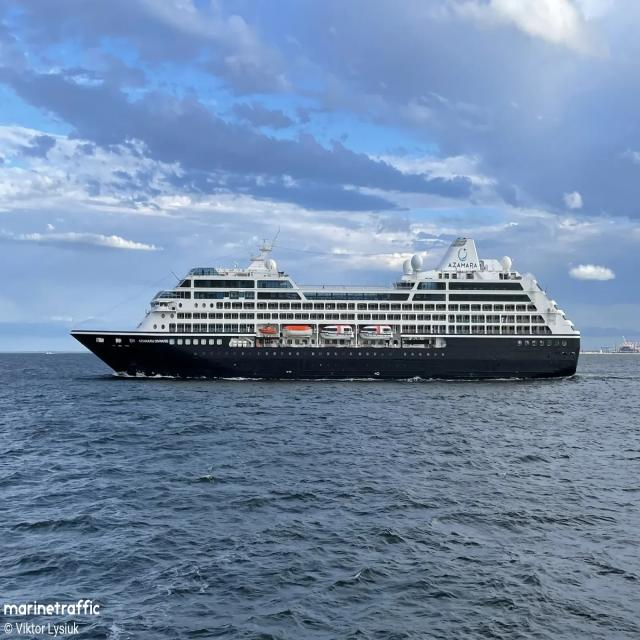Cruise: (70, 238, 580, 380)
